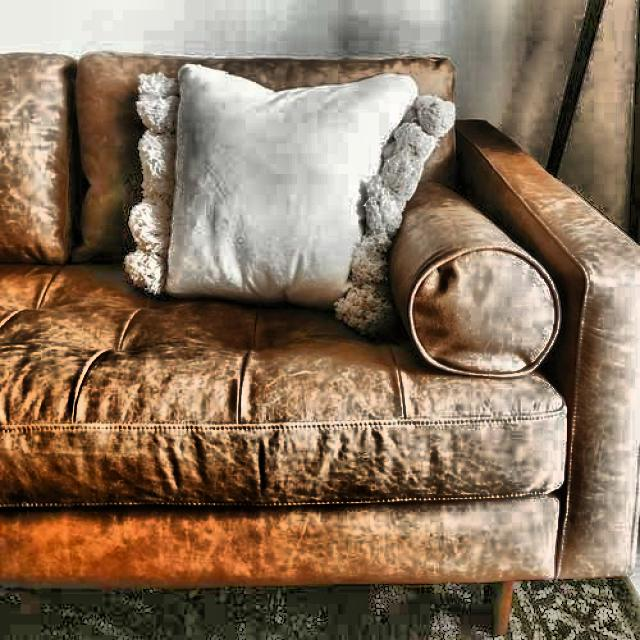sofa: (0, 49, 639, 632)
